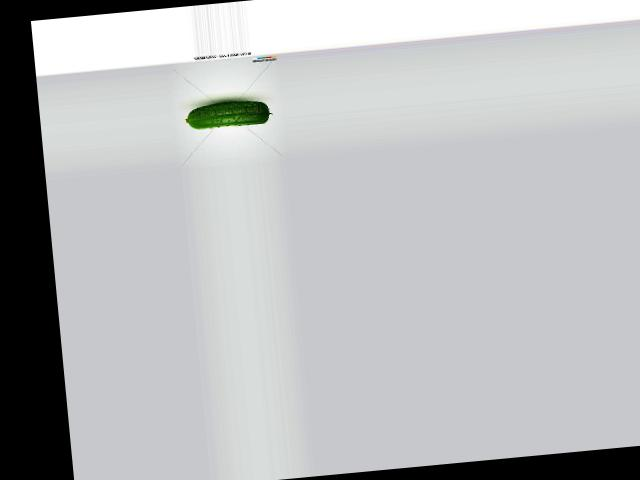cucumber: (183, 98, 273, 131)
